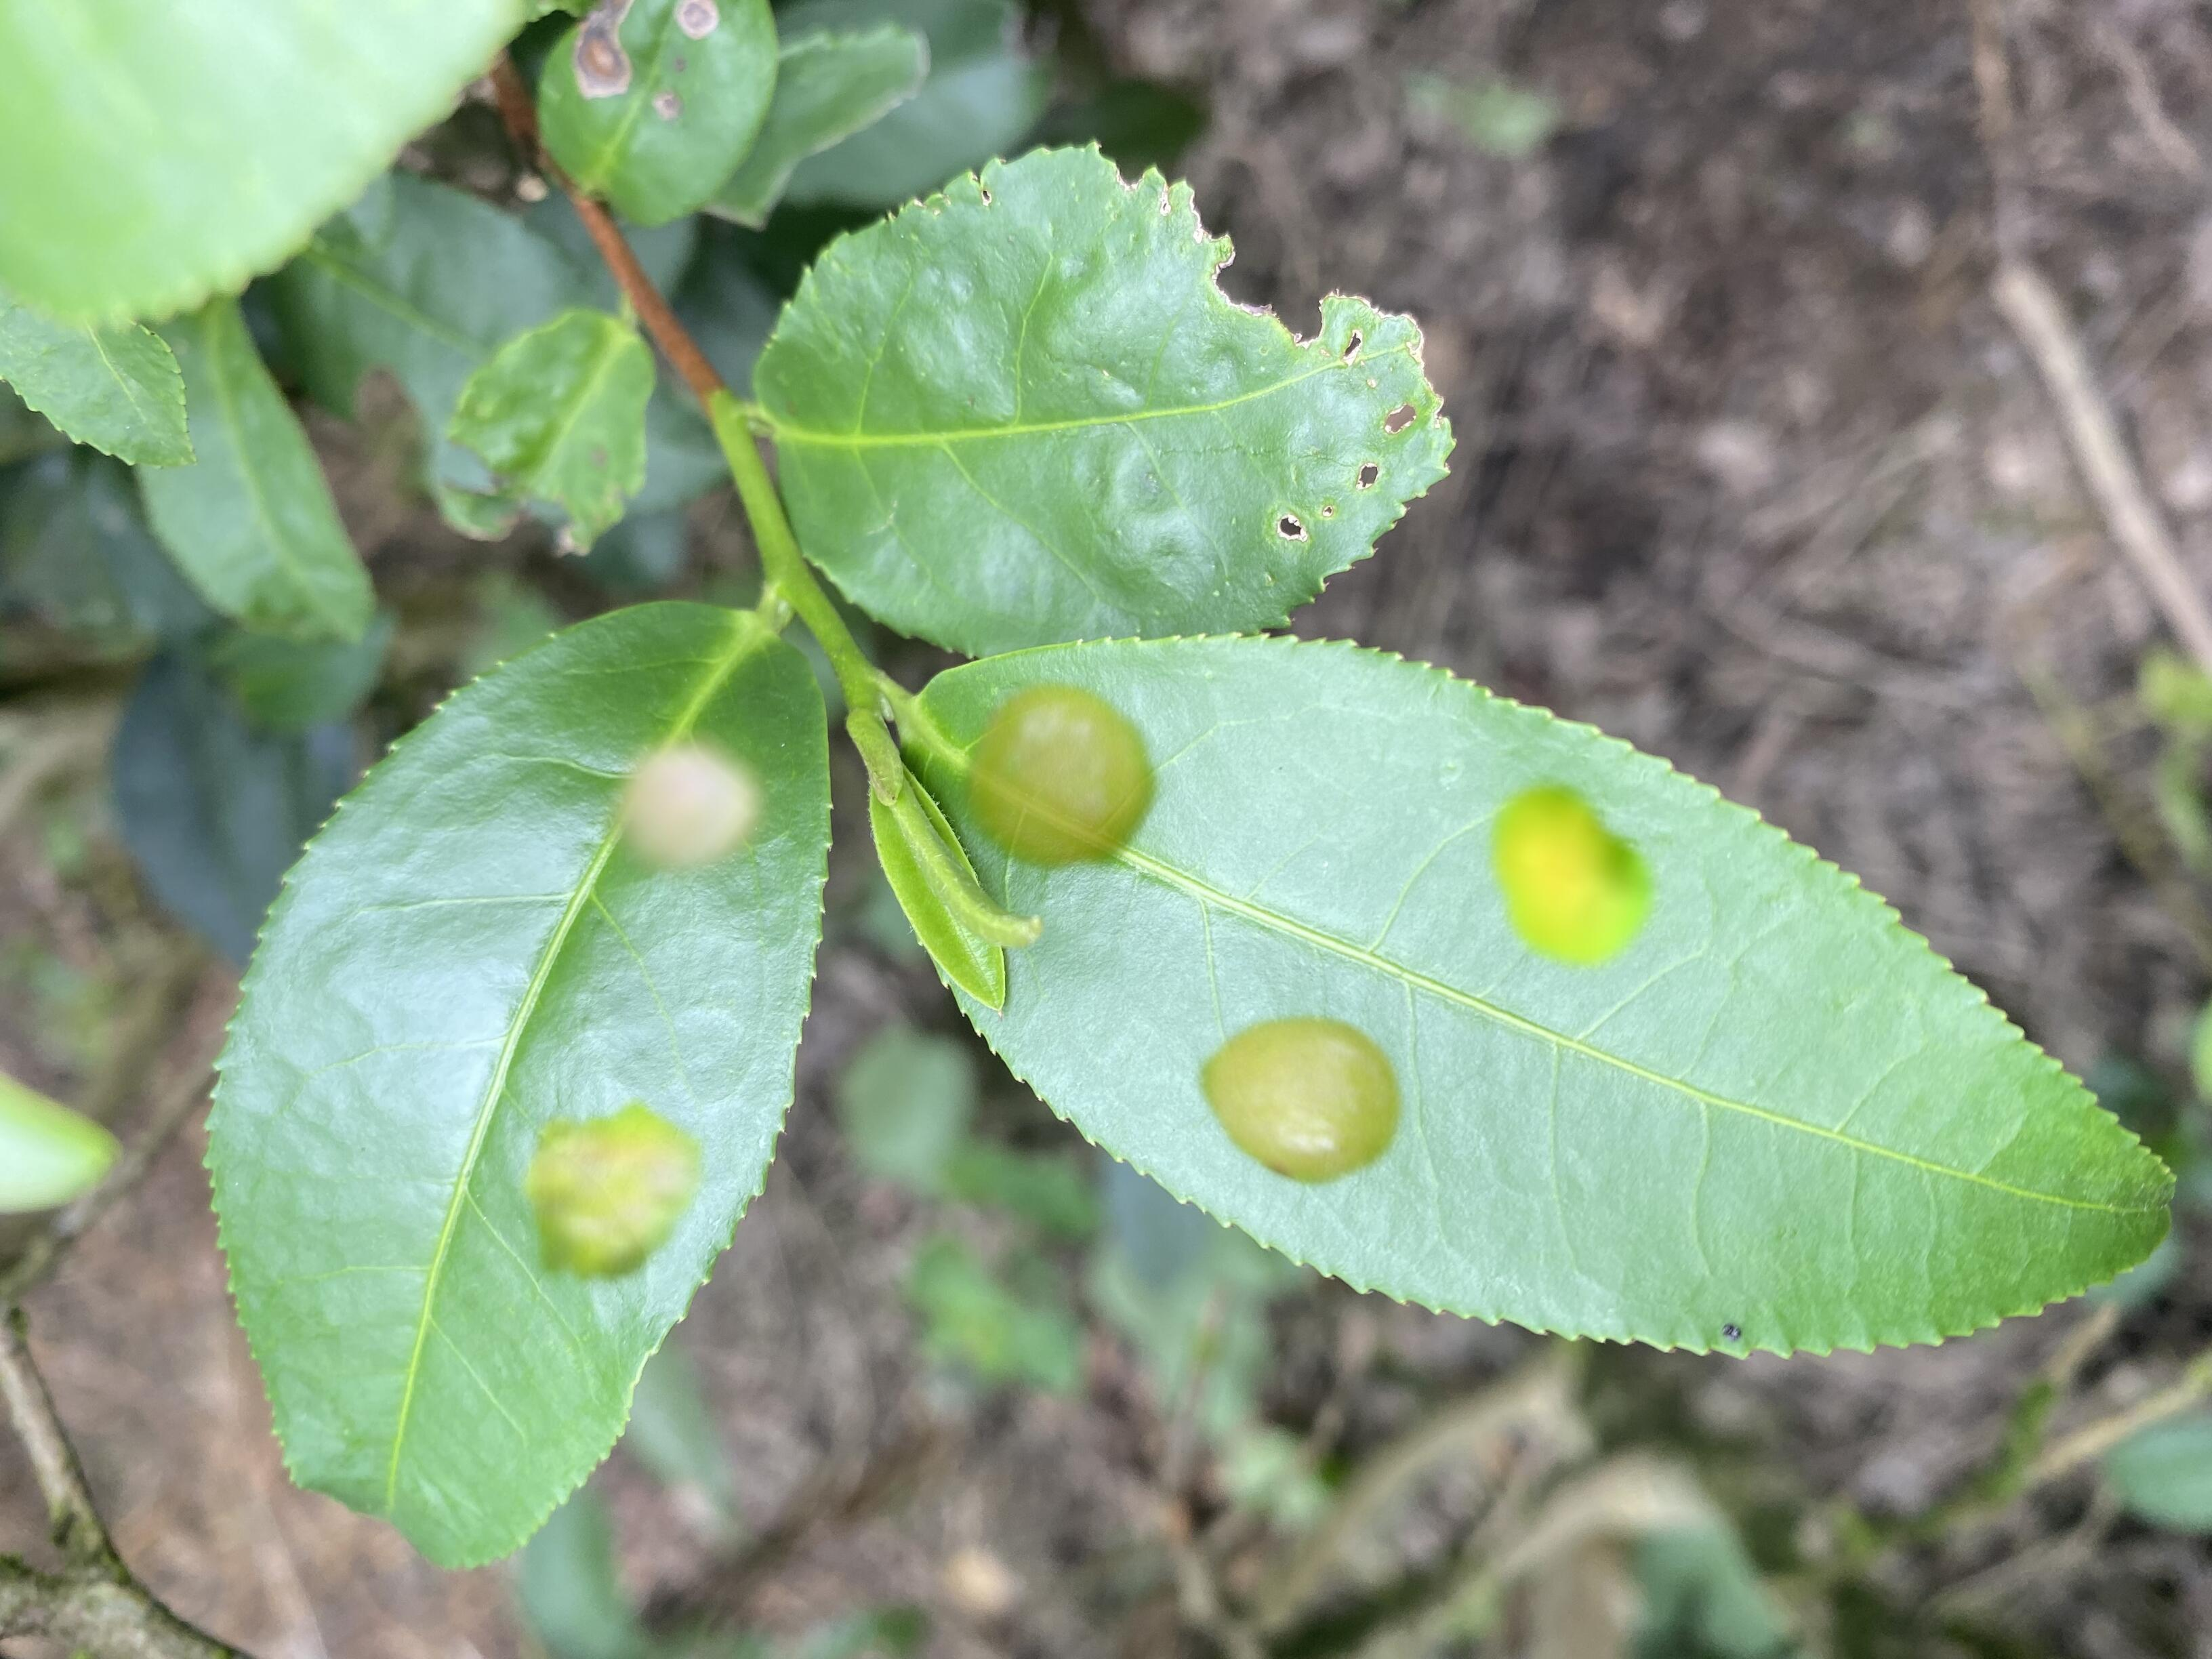chabing_high: (897, 631, 2181, 1361), (199, 596, 836, 1575)
chihuo_high: (749, 138, 1461, 659), (430, 310, 658, 561)
tanju_high: (531, 2, 777, 234)
